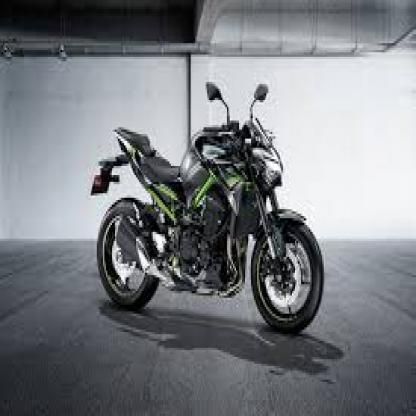Motorcycle: (90, 71, 328, 340)
